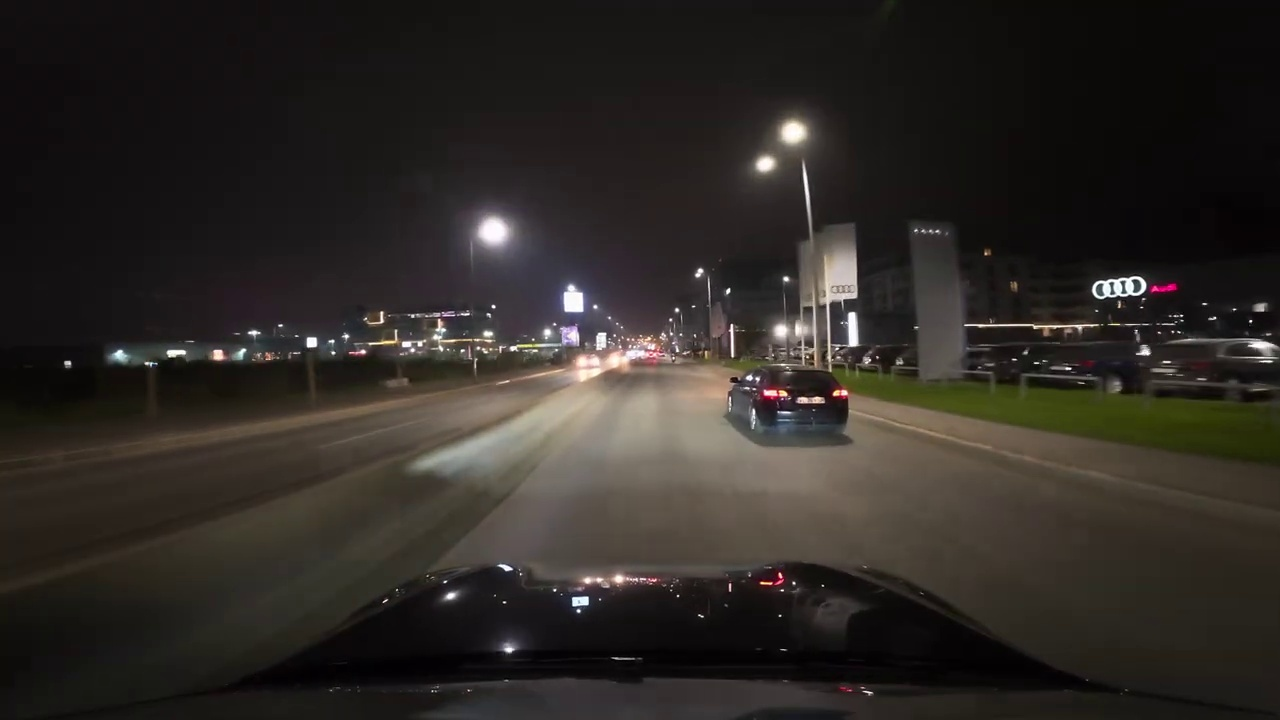acesa: (477, 215, 510, 247), (779, 119, 808, 146), (562, 285, 585, 313), (753, 154, 778, 177), (690, 265, 708, 284)
